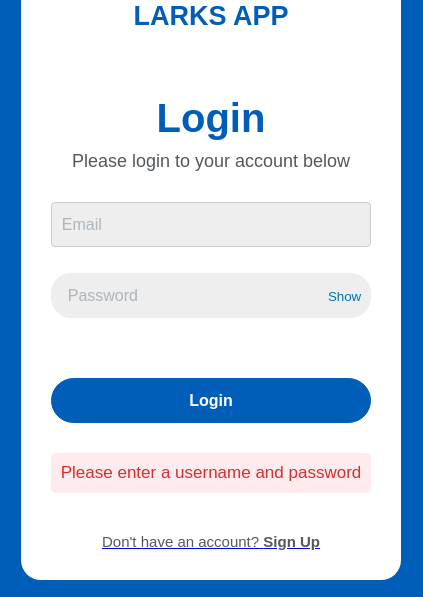
Test case: Page Navigation › When a user that is not logged in tries to navigate to an app from the sign up page › Should stay on the sign up page
(page scrolled)
Click the element with test id "loginSignUpBttn" at (211, 542), box [102, 533, 320, 550]
(page scrolled)
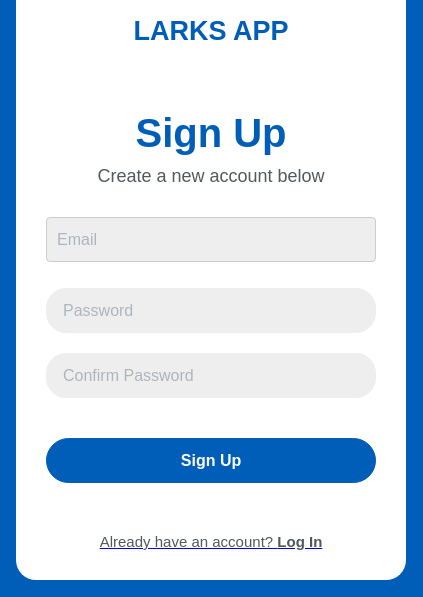
Result: the field with test id "signUpEmail" is shown at [46, 217, 376, 262]
